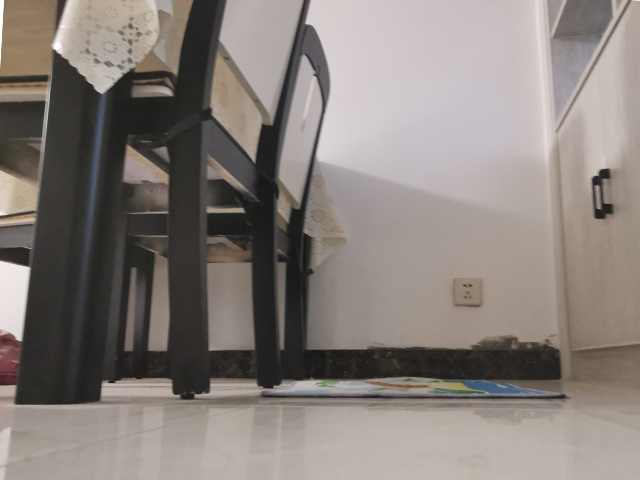cabinet: (535, 1, 640, 387)
carpet: (258, 376, 567, 401)
stool: (1, 1, 302, 406)
